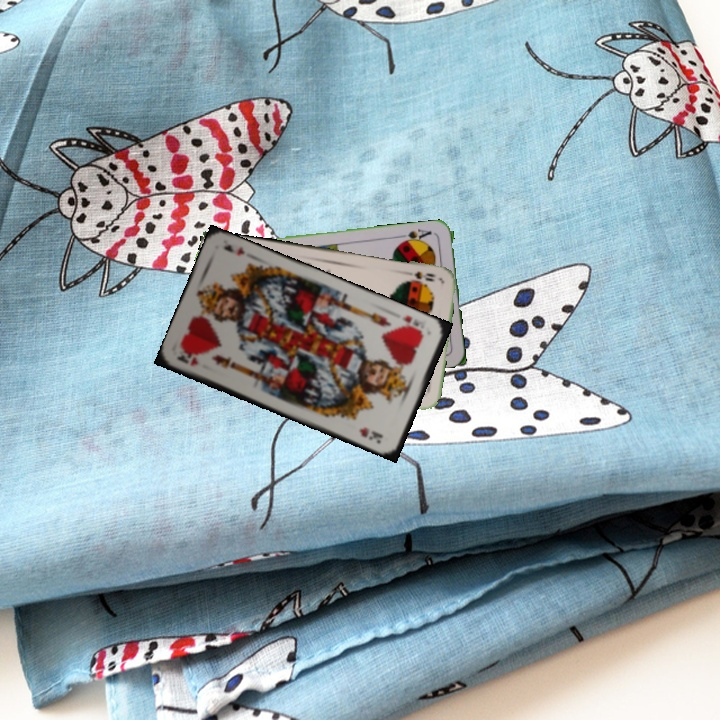HK: (398, 311, 427, 337), (173, 348, 201, 369)
SA: (396, 224, 434, 246)
SO: (401, 267, 438, 284)
